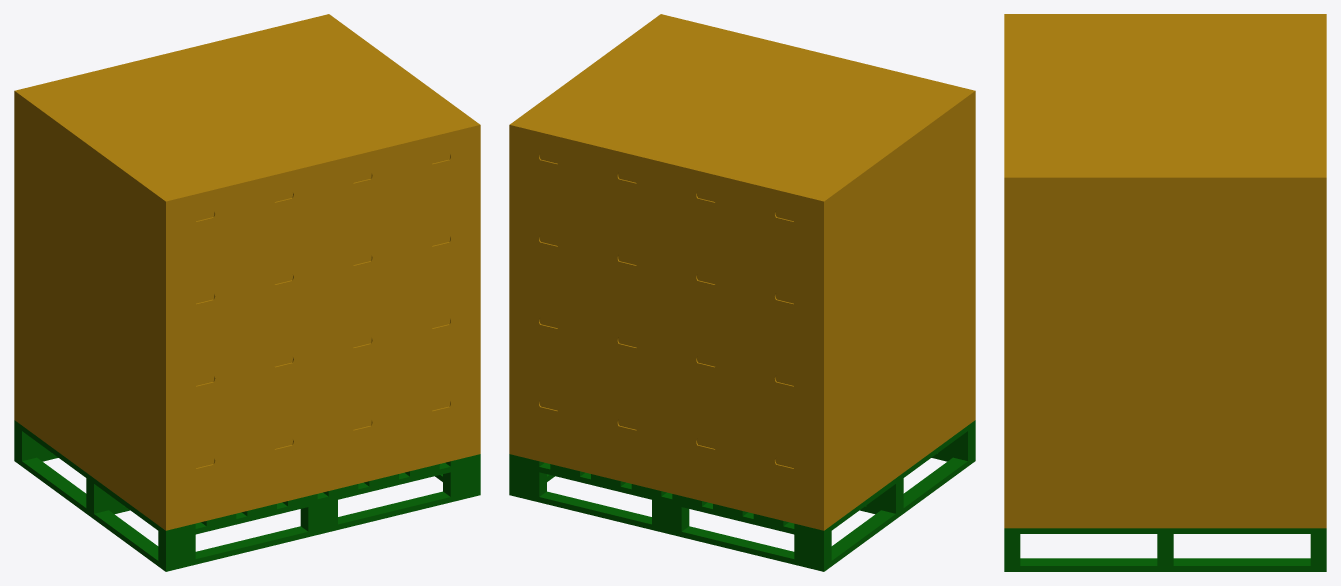
File: FullPallet.dae
3 renders of one model, left to right at view 1: azimuth 30°, elevation 25°; view 2: azimuth 150°, elevation 25°; view 3: azimuth 270°, elevation 25°, orthographic. The views are drawn at different scales.
Visible parts, largest first — view 1: 组件_4 (×23), group_5, group_17, group_6, group_8, group_4, group_15, group_14, group_19, group_12; view 2: 组件_4 (×23), group_16, group_17, group_23, group_8, group_19, group_20, group_21, group_4, group_12; view 3: 组件_4 (×14), group_22, group_1, group_11, group_15, group_20.
Part boxes in pixels (bbox=[...]): 组件_4 (×23): bbox=[14, 14, 480, 530]; group_5: bbox=[180, 491, 465, 568]; group_17: bbox=[14, 456, 180, 571]; group_6: bbox=[158, 459, 480, 541]; group_8: bbox=[14, 420, 195, 536]; group_4: bbox=[158, 534, 195, 566]; group_15: bbox=[443, 465, 480, 496]; group_14: bbox=[300, 500, 337, 531]; group_19: bbox=[14, 431, 51, 460]; group_12: bbox=[86, 484, 123, 513]; 组件_4 (×23): bbox=[509, 14, 975, 530]; group_16: bbox=[524, 491, 809, 568]; group_17: bbox=[809, 456, 975, 571]; group_23: bbox=[509, 459, 831, 541]; group_8: bbox=[794, 420, 975, 536]; group_19: bbox=[794, 534, 831, 566]; group_20: bbox=[509, 465, 546, 496]; group_21: bbox=[652, 500, 689, 531]; group_4: bbox=[938, 431, 975, 460]; group_12: bbox=[866, 484, 903, 513]; 组件_4 (×14): bbox=[1004, 14, 1326, 528]; group_22: bbox=[1004, 558, 1326, 571]; group_1: bbox=[1004, 528, 1326, 533]; group_11: bbox=[1157, 540, 1173, 565]; group_15: bbox=[1004, 540, 1020, 565]; group_20: bbox=[1310, 540, 1326, 565].
Size of the model in its own units: 47.24 by 39.37 by 53.15.
